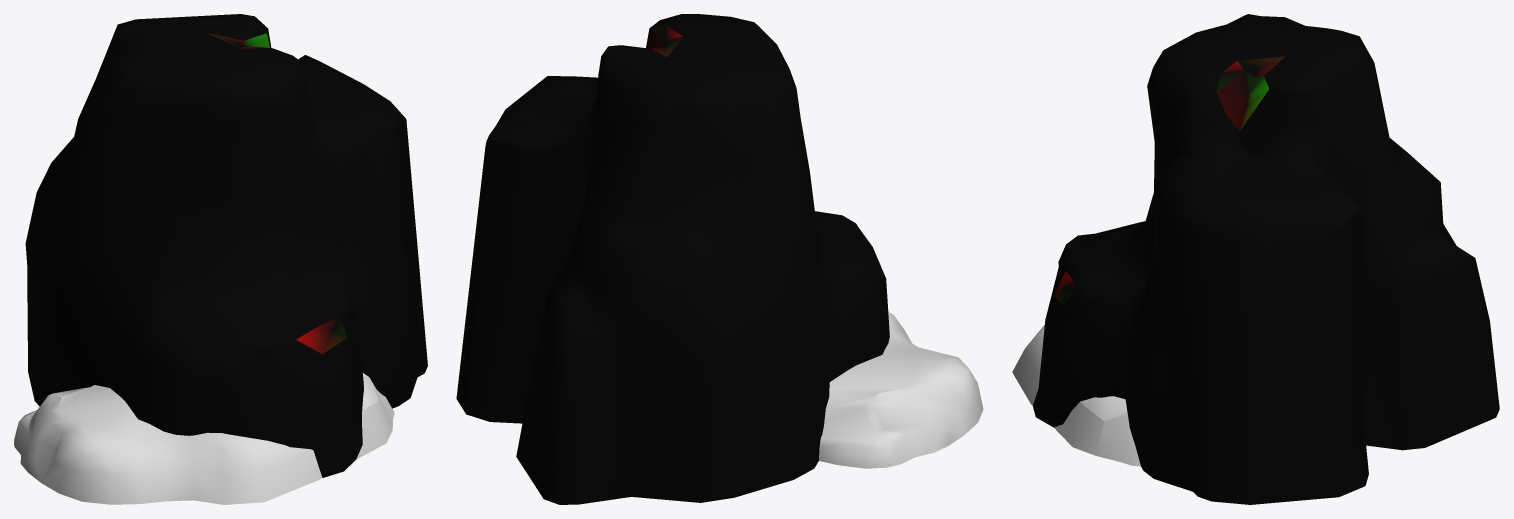
The model's file is MountainStone.fbx.
The picture shows the model from 3 angles, left to right: view 1: azimuth 30°, elevation 25°; view 2: azimuth 150°, elevation 25°; view 3: azimuth 270°, elevation 25°; orthographic projection. The views are drawn at different scales.
Parts seen in each view (by area): view 1: MountainStone02, MountainStone04; view 2: MountainStone02, MountainStone04; view 3: MountainStone02, MountainStone04.
Part boxes in pixels (box(x1,y1,x2,y2)): MountainStone02: box(25, 14, 427, 477); MountainStone04: box(14, 373, 394, 504); MountainStone02: box(456, 14, 889, 504); MountainStone04: box(819, 312, 983, 468); MountainStone02: box(1033, 14, 1499, 504); MountainStone04: box(1012, 325, 1140, 466).
Size of the model in its own units: 369 by 299 by 371.
